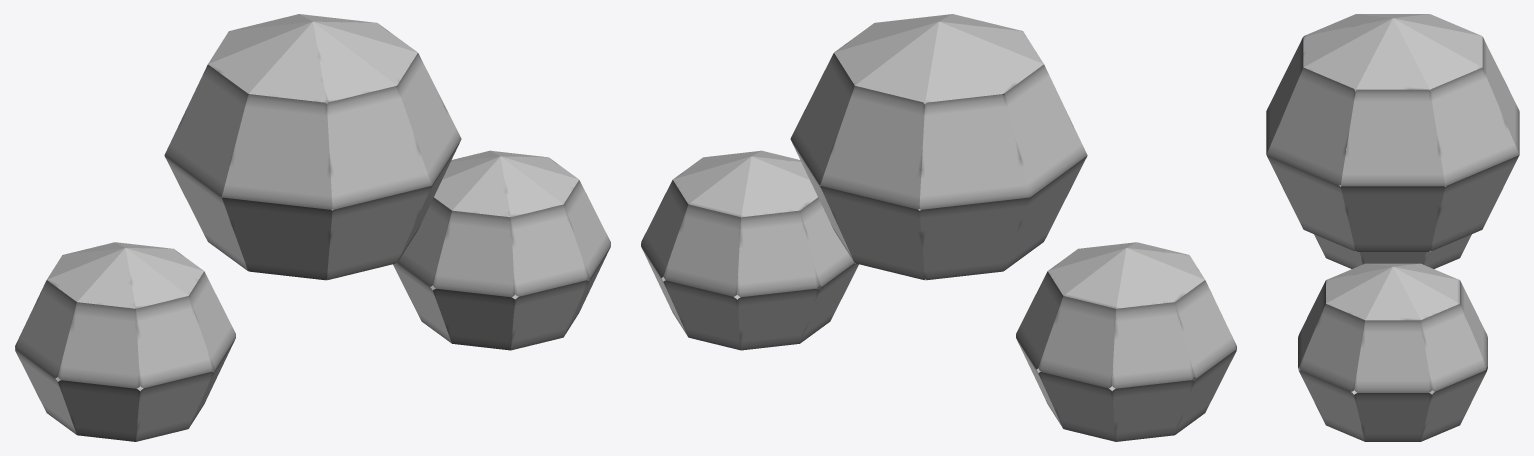
File: ball_radar_triple.obj
3 renders of one model, left to right at view 1: azimuth 30°, elevation 25°; view 2: azimuth 150°, elevation 25°; view 3: azimuth 270°, elevation 25°, orthographic. The views are drawn at different scales.
Parts seen in each view (by area): view 1: sphere, sphere1, sphere2; view 2: sphere, sphere1, sphere2; view 3: sphere, sphere2, sphere1.
Boxes of the visible parts, box(x1,y1,x2,y2) form: sphere: box(164, 14, 461, 280); sphere1: box(15, 242, 235, 441); sphere2: box(393, 150, 610, 350); sphere: box(790, 14, 1087, 280); sphere1: box(1016, 242, 1236, 441); sphere2: box(641, 150, 858, 350); sphere: box(1266, 14, 1519, 251); sphere2: box(1298, 263, 1487, 441); sphere1: box(1314, 234, 1471, 268).
Size of the model in its own units: 4.62 by 2.94 by 2.
